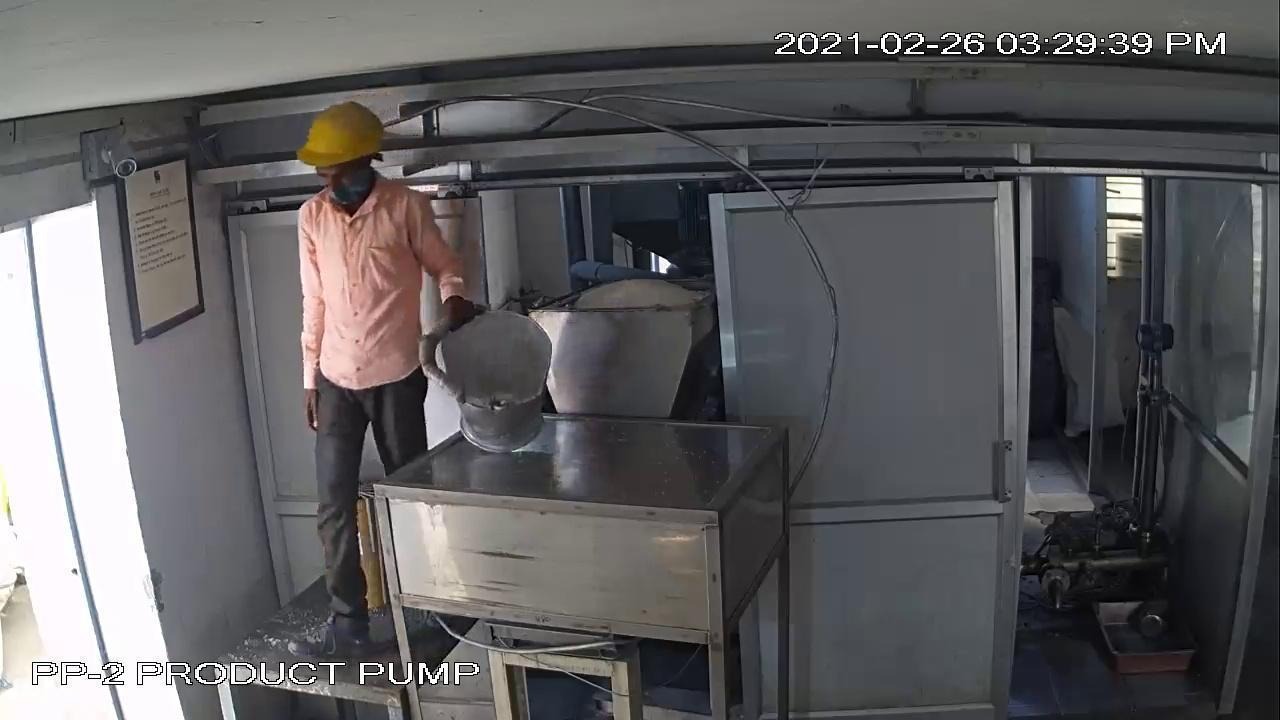helmet: (278, 104, 399, 169)
